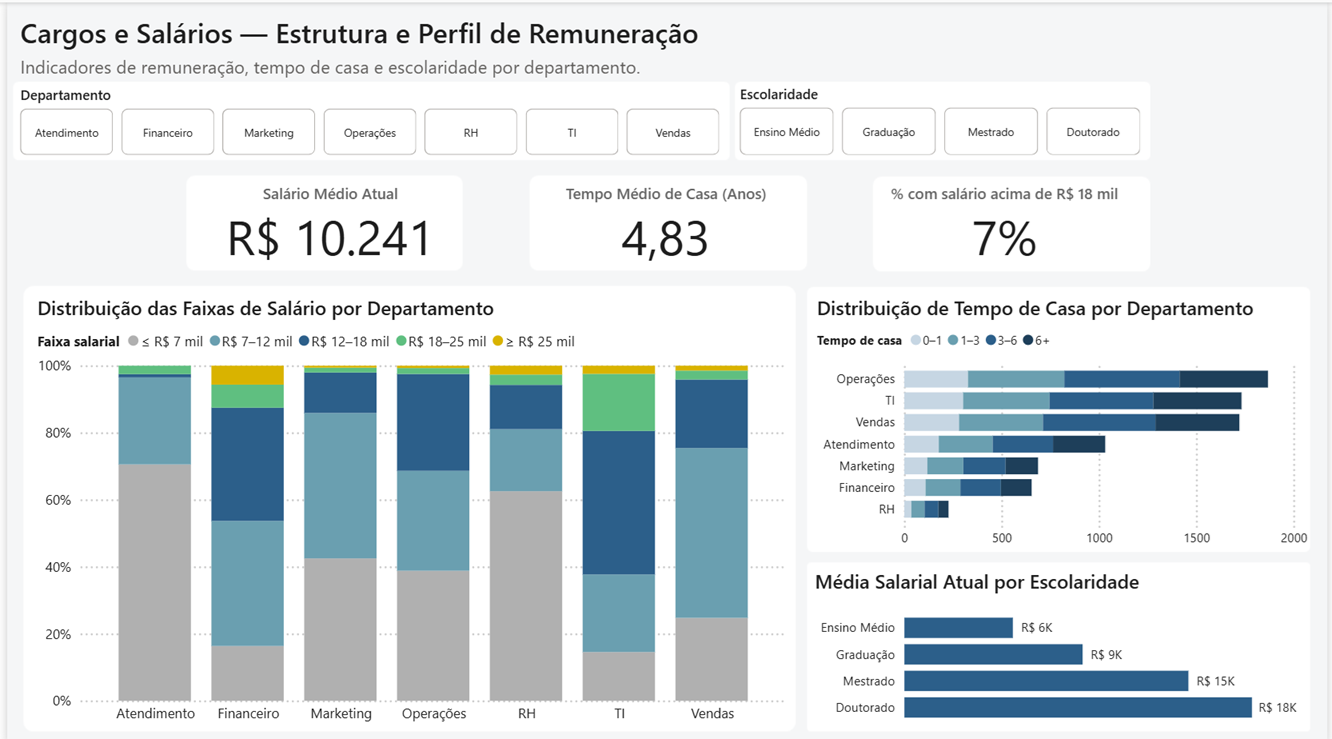

The dashboard page shown, as its layout file describes it:
{"tool":"powerbi","page":{"name":"Cargos & Salários","canvas":[1280,720],"ordinal":3},"visuals":[{"type":"textbox","title":"Cargos e Salários — Estrutura e Perfil de Remuneração","box":[7.3,11,756.2,66],"z":0},{"type":"card","title":"Salário Médio Atual","fields":{"Values":["_Measures.Salário Médio Atual"]},"box":[184.8,174.5,256.7,83.2],"z":1000},{"type":"hundredPercentStackedColumnChart","title":"Distribuição das Faixas de Salário por Departamento","fields":{"Category":["dim_job.department"],"Y":["_Measures.HC Atual"],"Series":["dim_salary_band.salary_band"]},"box":[24.6,283.4,737.1,426.1],"z":2000},{"type":"card","title":"Tempo Médio de Casa (Anos)","fields":{"Values":["_Measures.Tempo Médio de Empresa (Atual)"]},"box":[511.3,174.5,256.7,83.2],"z":3000},{"type":"barChart","title":"Média Salarial Atual por Escolaridade","fields":{"Category":["dim_education.education_level"],"Y":["_Measures.Salário Médio Atual"]},"box":[778,548.4,477.4,161.2],"z":4000},{"type":"barChart","title":"Distribuição de Tempo de Casa por Departamento","fields":{"Category":["dim_job.department"],"Y":["_Measures.HC Atual"],"Series":["fact_employees.seniority_band"]},"box":[780.2,283.4,485.6,254.6],"z":5000},{"type":"advancedSlicerVisual","fields":{"Values":["dim_job.department"]},"box":[8.2,80.1,688.9,72.9],"z":6000},{"type":"advancedSlicerVisual","fields":{"Values":["dim_education.education_level"]},"box":[705.3,79,401.4,73.9],"z":7000},{"type":"card","title":"% com salário acima de R$ 18 mil","fields":{"Values":["_Measures.% acima de 18k (safe)"]},"box":[838.8,174.5,257.7,83.2],"z":8000}]}

Visuals, with their boxes in screenshot pixels (x1, y1, x2, y2), scaled from the page's 1280x720 canvas onto the 1332x739 screenshot:
"Cargos e Salários — Estrutura e Perfil de Remuneração" textbox: left=8, top=11, right=795, bottom=79
"Salário Médio Atual" card: left=192, top=179, right=459, bottom=265
"Distribuição das Faixas de Salário por Departamento" hundredPercentStackedColumnChart: left=26, top=291, right=793, bottom=728
"Tempo Médio de Casa (Anos)" card: left=532, top=179, right=799, bottom=265
"Média Salarial Atual por Escolaridade" barChart: left=810, top=563, right=1306, bottom=728
"Distribuição de Tempo de Casa por Departamento" barChart: left=812, top=291, right=1317, bottom=552
advancedSlicerVisual - dim_job.department: left=9, top=82, right=725, bottom=157
advancedSlicerVisual - dim_education.education_level: left=734, top=81, right=1152, bottom=157
"% com salário acima de R$ 18 mil" card: left=873, top=179, right=1141, bottom=265
